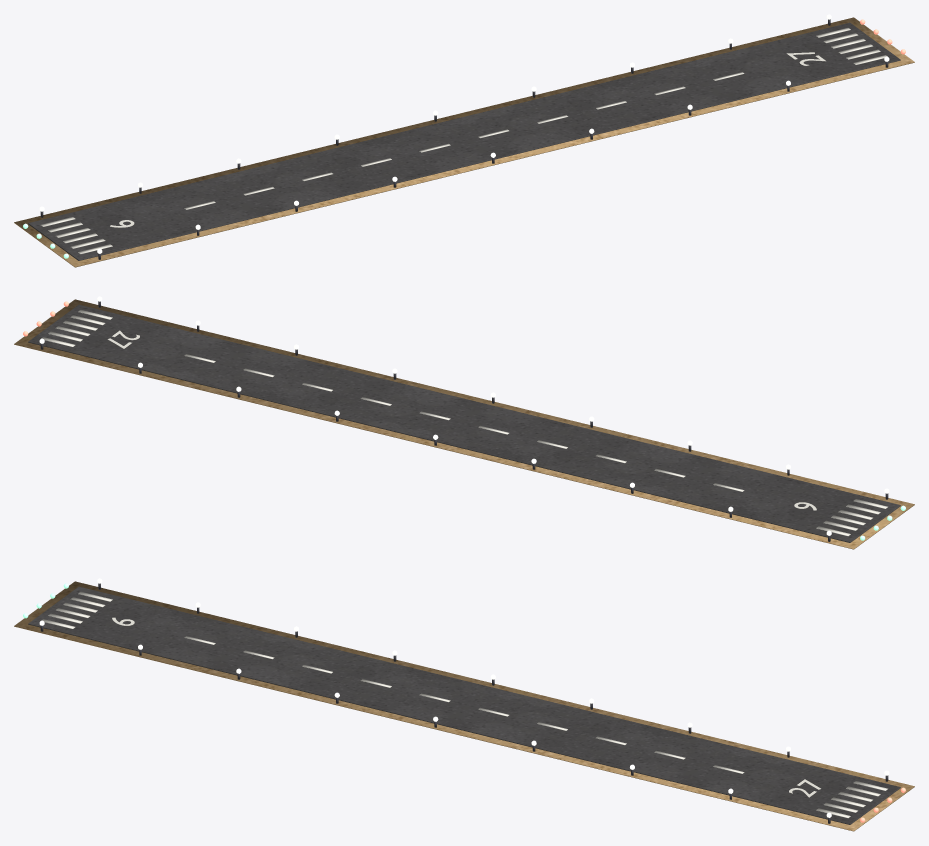
The model's file is runway.glb.
3 views of the same model, one above another, from view 1: azimuth 30°, elevation 25°; view 2: azimuth 150°, elevation 25°; view 3: azimuth 330°, elevation 25° (orthographic).
Parts seen in each view (by area): view 1: strip, shoulder; view 2: strip, shoulder; view 3: strip, shoulder.
Part boxes in pixels (bbox=[...]): strip: bbox=[28, 22, 900, 260]; shoulder: bbox=[14, 17, 914, 267]; strip: bbox=[28, 304, 900, 542]; shoulder: bbox=[14, 299, 914, 549]; strip: bbox=[28, 586, 900, 824]; shoulder: bbox=[14, 581, 914, 831].
Bounding box in the file's own units: 28.65 × 0.365 × 3.6.
Materials: 7 (2 with a texture image).
